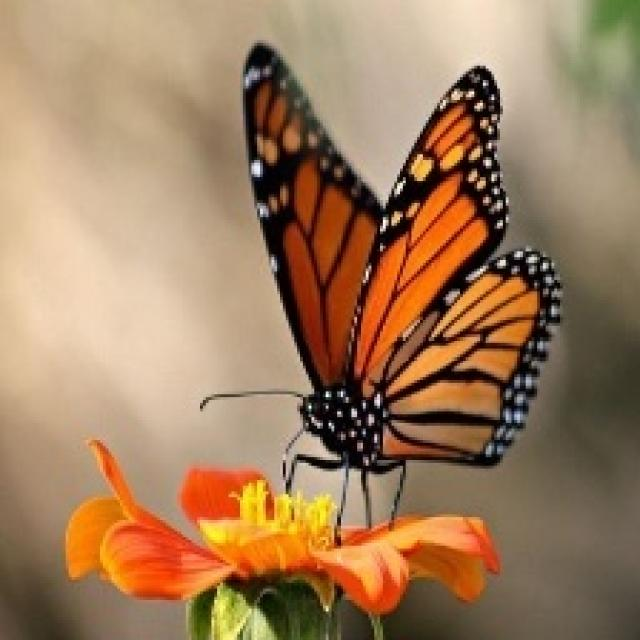butterfly: (197, 40, 563, 543)
